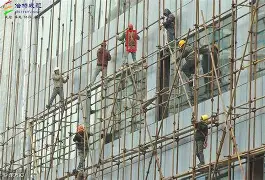safety belt: (195, 125, 209, 149), (77, 133, 89, 153), (183, 47, 197, 64), (128, 31, 136, 52)
